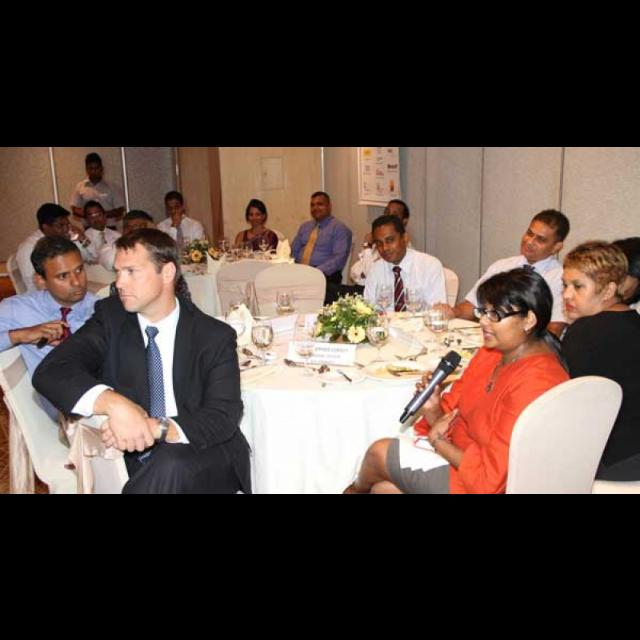head: (112, 226, 180, 314), (480, 271, 552, 349), (561, 242, 629, 322), (31, 232, 90, 304), (520, 207, 572, 261), (372, 213, 412, 263), (123, 212, 157, 248), (38, 203, 70, 241), (383, 199, 411, 229), (310, 190, 334, 220), (84, 200, 108, 228), (85, 152, 107, 182), (166, 190, 186, 218), (248, 201, 268, 227)
person: (427, 205, 581, 423), (356, 210, 454, 402), (96, 206, 200, 372), (12, 200, 110, 364), (319, 196, 413, 342), (273, 189, 355, 325), (62, 198, 134, 336), (68, 149, 128, 297), (152, 187, 210, 309), (224, 196, 282, 314)
